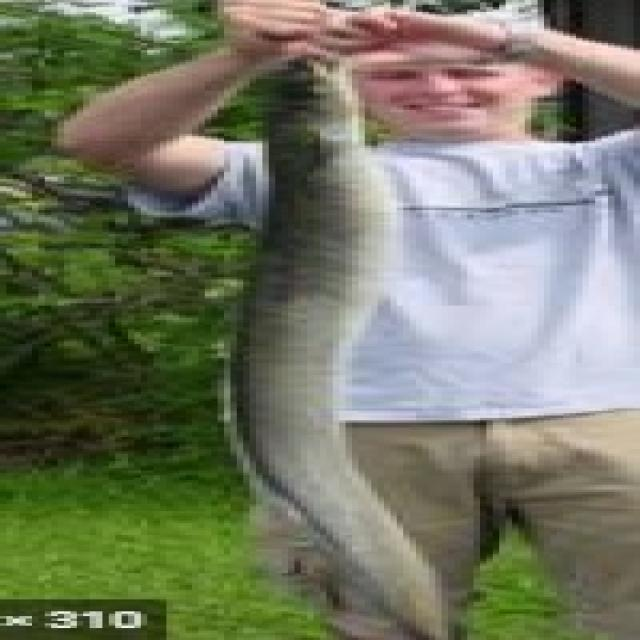Freshwater-Eel: (196, 30, 498, 640)
